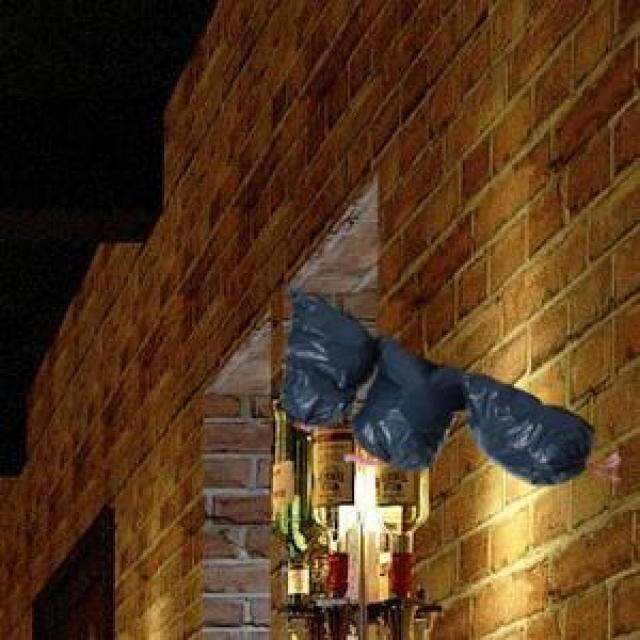miscellaneous trash: (275, 285, 591, 480)
